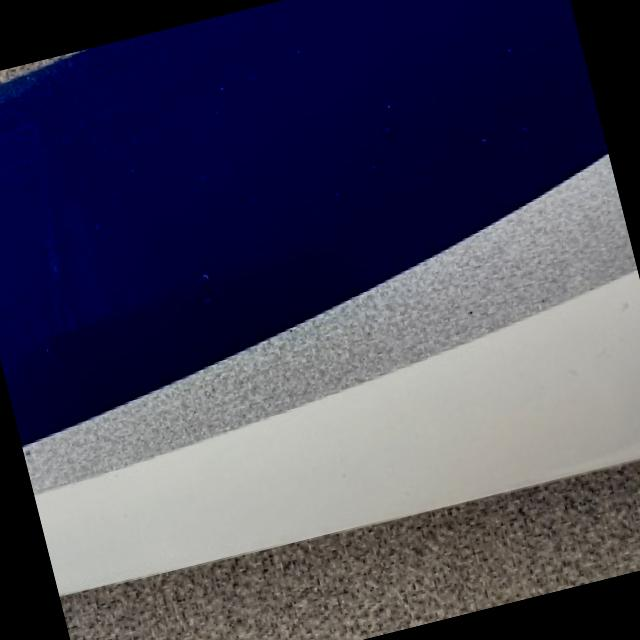healthy: (0, 0, 640, 594)
